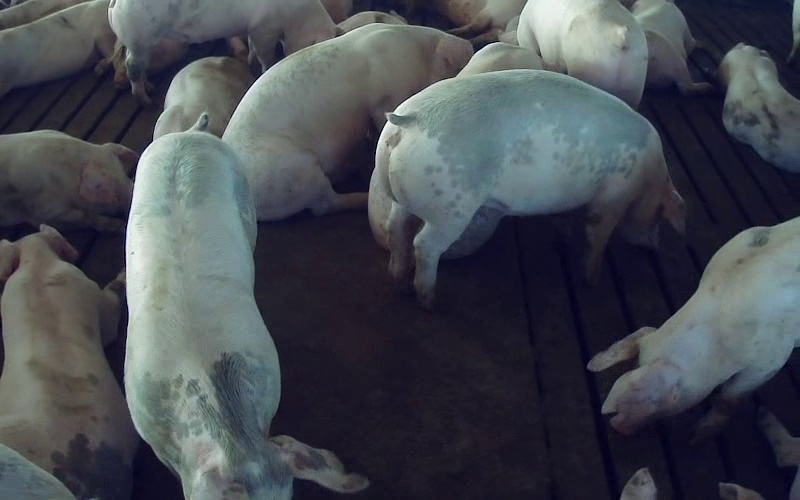pig: (125, 114, 367, 499), (377, 71, 683, 308), (223, 24, 472, 219), (588, 217, 799, 439), (108, 0, 335, 102), (517, 0, 647, 107), (718, 43, 799, 172), (153, 57, 252, 139), (631, 0, 712, 94)
